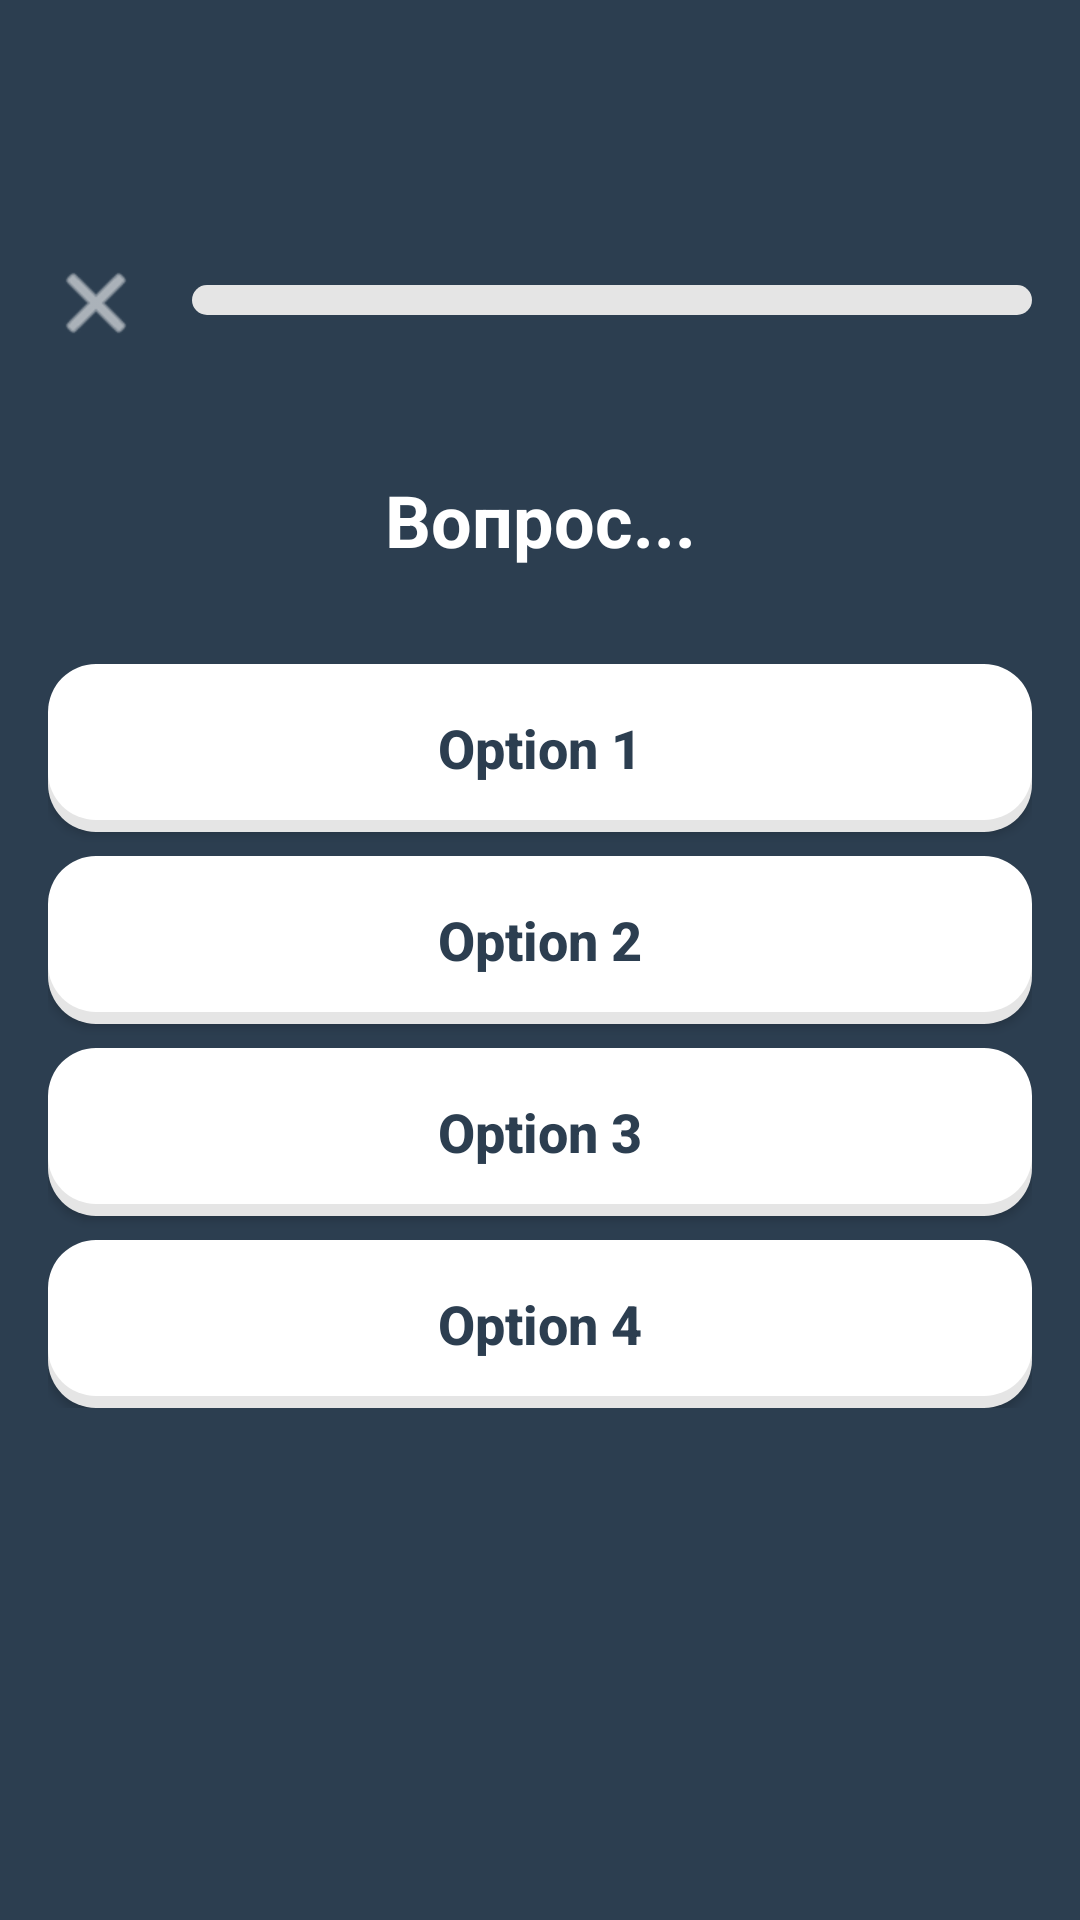

Locate icon controls on the screen. Image size 1080 x 1920, boxes as (x1, y1, x2, y2).
close clear cancel: (66, 273, 126, 333)
